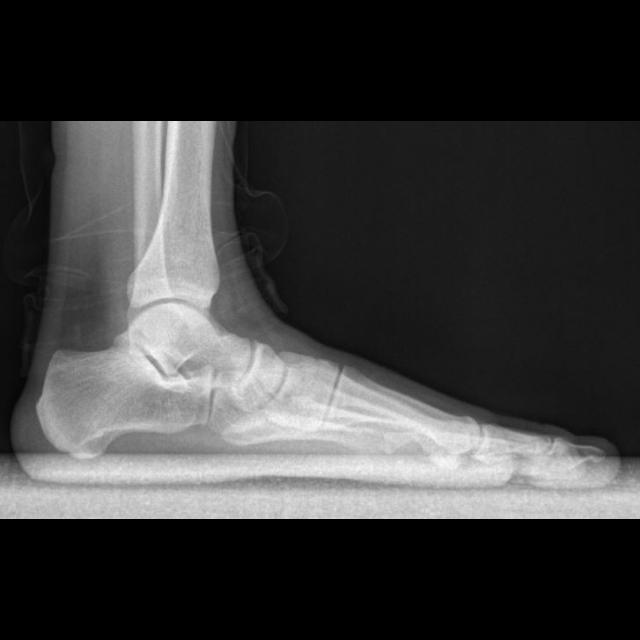a: (34, 342, 211, 460)
b: (227, 344, 285, 412)
c: (320, 367, 480, 456)
